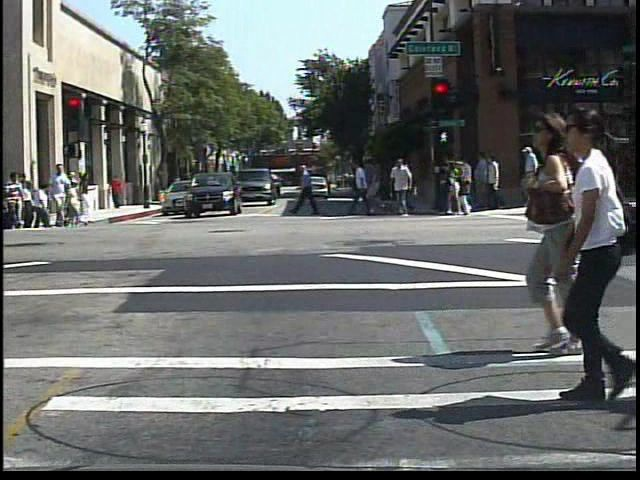person: (534, 105, 623, 407), (505, 112, 579, 353), (519, 143, 550, 209), (47, 162, 74, 230), (5, 166, 28, 232), (109, 174, 128, 212), (170, 169, 188, 200)
